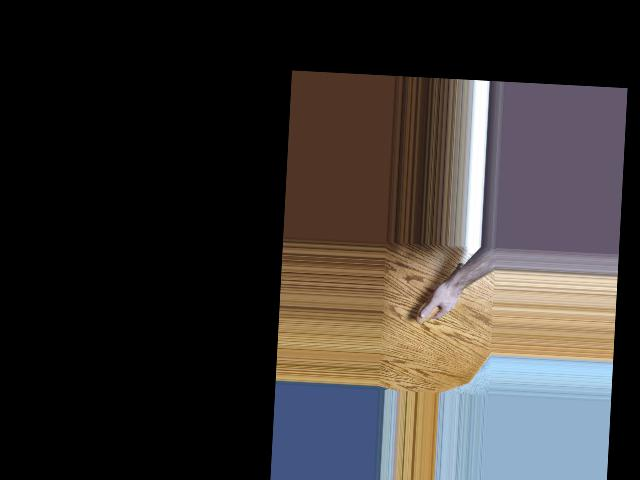sweet_potato: (415, 257, 468, 326)
